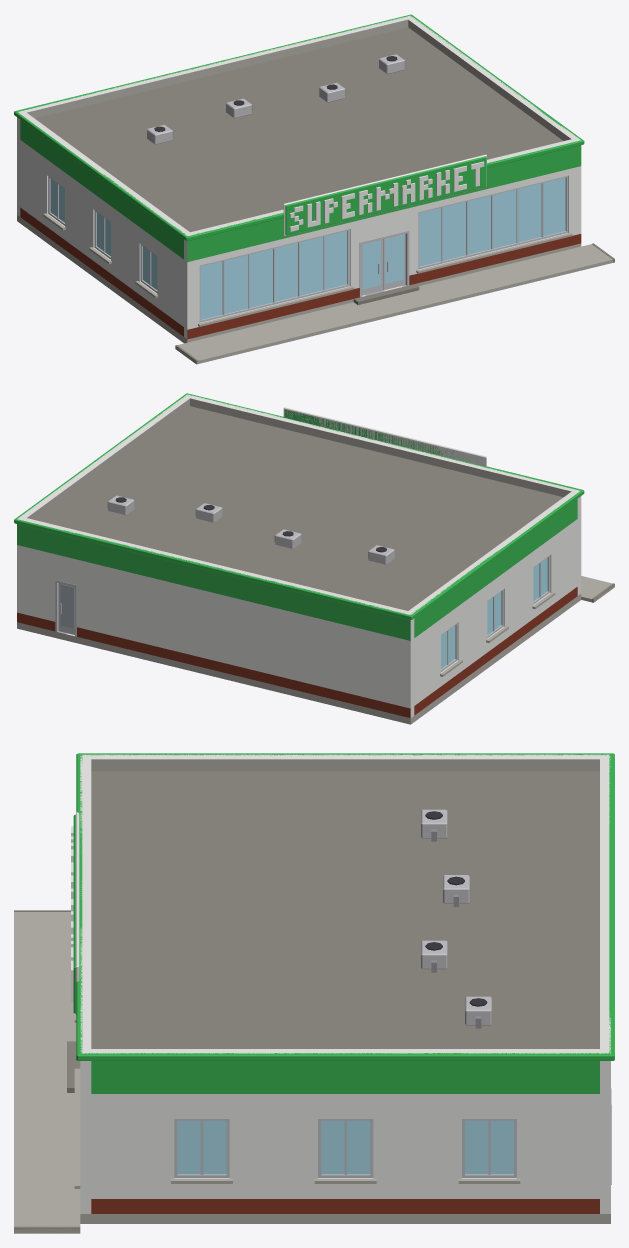
Rendered from Supermarket.fbx.
3 renders of one model, top to bottom at view 1: azimuth 30°, elevation 25°; view 2: azimuth 150°, elevation 25°; view 3: azimuth 270°, elevation 25°, orthographic. The views are drawn at different scales.
Parts seen in each view (by area): view 1: Supermarket, Supermarket_Roof, Supermarket_Glass, Supermarket_Sign, Supermarket_DoorR, Supermarket_DoorL; view 2: Supermarket, Supermarket_Roof, Supermarket_Sign, Supermarket_Glass, Supermarket_BackDoor; view 3: Supermarket_Roof, Supermarket, Supermarket_Glass, Supermarket_Sign.
Boxes of the visible parts, left/top/right/bottom form: Supermarket: left=14, top=14, right=614, bottom=364; Supermarket_Roof: left=35, top=27, right=563, bottom=232; Supermarket_Glass: left=50, top=177, right=565, bottom=319; Supermarket_Sign: left=283, top=154, right=486, bottom=236; Supermarket_DoorR: left=383, top=233, right=405, bottom=290; Supermarket_DoorL: left=362, top=239, right=382, bottom=295; Supermarket: left=14, top=393, right=614, bottom=724; Supermarket_Roof: left=35, top=406, right=563, bottom=610; Supermarket_Sign: left=283, top=407, right=486, bottom=466; Supermarket_Glass: left=441, top=558, right=547, bottom=668; Supermarket_BackDoor: left=58, top=583, right=74, bottom=634; Supermarket_Roof: left=91, top=771, right=599, bottom=1048; Supermarket: left=14, top=753, right=614, bottom=1233; Supermarket_Glass: left=177, top=1120, right=513, bottom=1174; Supermarket_Sign: left=71, top=812, right=79, bottom=1014.
Bounding box in the file's own units: 68 × 18.5 × 54.35.
Materials: 1 (1 with a texture image).
